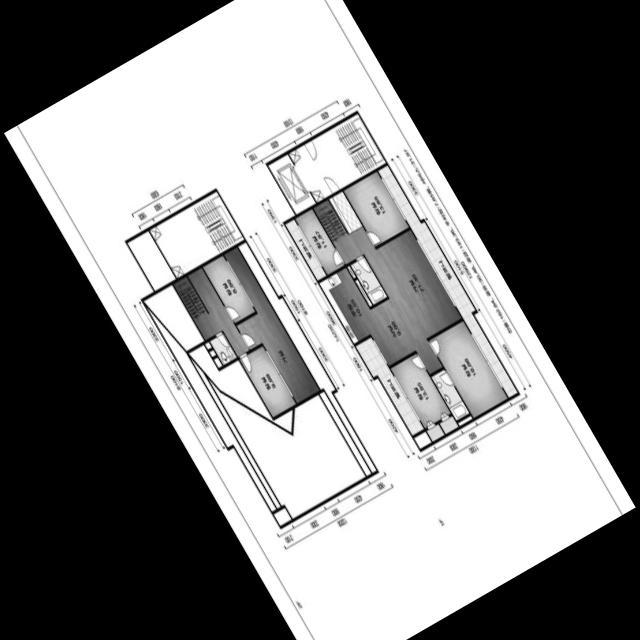background: (4, 0, 636, 640)
space_balconi: (378, 165, 518, 397), (355, 336, 424, 435), (285, 219, 327, 280)
space_bedroom: (429, 320, 508, 417), (391, 353, 459, 441), (343, 171, 409, 246), (240, 346, 296, 417), (203, 255, 255, 322), (295, 208, 344, 274)
space_elevator: (268, 154, 316, 214)
space_front: (329, 191, 363, 233)
space_kitchen: (319, 267, 416, 365)
space_living_room: (348, 226, 461, 373), (224, 247, 319, 403)
space_other: (188, 267, 249, 356), (355, 279, 373, 306), (414, 431, 432, 448), (458, 415, 473, 425), (347, 265, 356, 278)
space_staircase: (289, 113, 386, 202), (149, 191, 244, 278), (313, 199, 360, 264), (173, 276, 218, 339)
space_toilet: (431, 369, 469, 420), (350, 256, 387, 304), (210, 333, 237, 364)
